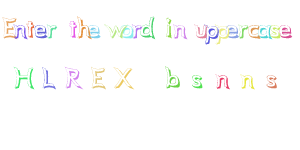E: (1, 15, 18, 39), (91, 66, 106, 89)
H: (14, 67, 35, 89)
L: (42, 66, 56, 89)
R: (65, 66, 82, 89)
X: (114, 67, 134, 89)
a: (257, 23, 271, 39)
b: (165, 65, 180, 89)
c: (248, 23, 259, 39)
d: (140, 15, 155, 38)
e: (34, 24, 47, 39), (88, 23, 100, 39), (226, 23, 238, 39), (280, 23, 292, 39)
h: (77, 16, 91, 39)
i: (164, 17, 173, 38)
n: (214, 73, 230, 89), (239, 74, 255, 89), (13, 23, 27, 38), (173, 24, 187, 39)
o: (119, 24, 134, 38)
p: (204, 23, 219, 45), (216, 23, 228, 47)
r: (131, 23, 142, 39), (238, 23, 247, 39), (47, 24, 56, 38)
s: (191, 74, 203, 89), (266, 74, 278, 88), (269, 23, 279, 38)
t: (26, 19, 36, 38), (68, 20, 77, 38)
u: (194, 23, 208, 39)
w: (105, 23, 124, 38)
